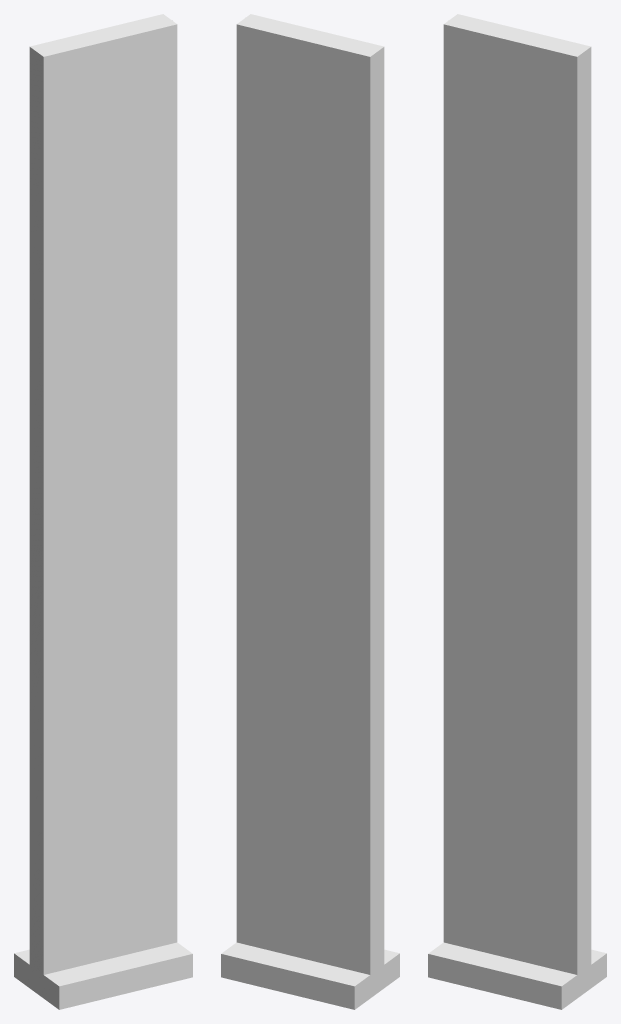
The model's file is 00_wall.FBX.
3 views of the same model, side by side, from view 1: azimuth 30°, elevation 25°; view 2: azimuth 150°, elevation 25°; view 3: azimuth 330°, elevation 25° (orthographic).
Visible parts, largest first — view 1: 00_wall; view 2: 00_wall; view 3: 00_wall.
Boxes of the visible parts, <box> form: 00_wall: <box>14,14,192,1009</box>; 00_wall: <box>221,14,399,1009</box>; 00_wall: <box>428,14,606,1009</box>.
Size of the model in its own units: 64.11 by 432 by 37.56.
